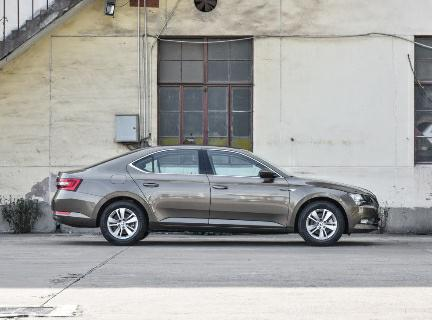斯柯达-速派: (45, 137, 391, 254)
